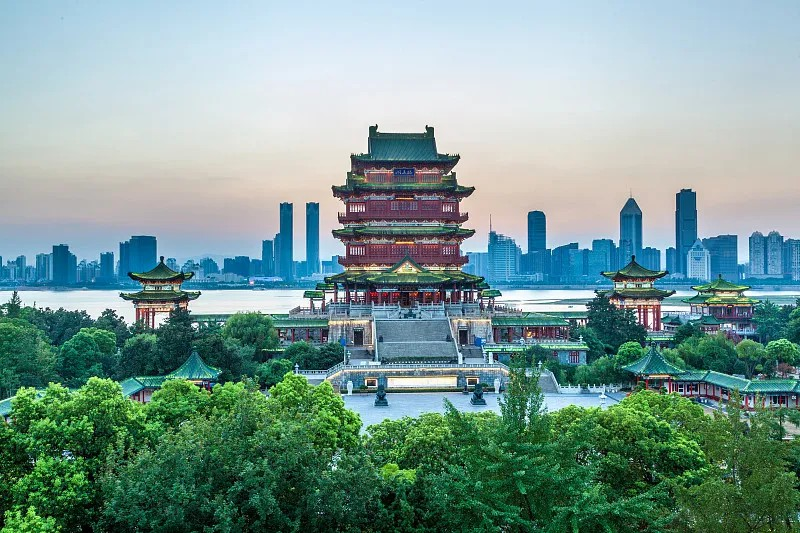Teng: (304, 124, 502, 311)
